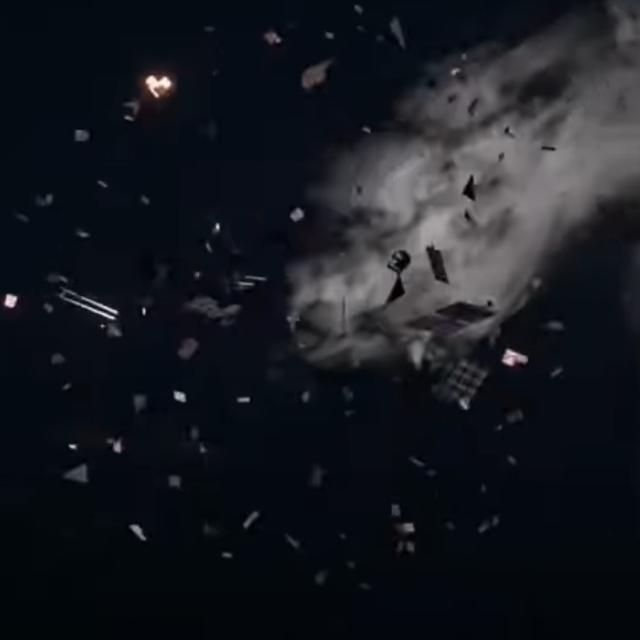large_debris: (429, 356, 485, 416), (410, 297, 497, 335), (178, 289, 244, 327), (58, 289, 124, 321), (428, 244, 458, 288), (302, 56, 333, 89), (63, 458, 94, 486), (383, 275, 407, 307), (390, 246, 414, 274), (146, 75, 171, 99), (177, 336, 199, 362), (501, 349, 528, 369), (2, 289, 20, 312), (74, 128, 91, 144), (402, 523, 418, 535), (391, 503, 399, 519), (398, 541, 404, 555), (408, 544, 415, 554)
